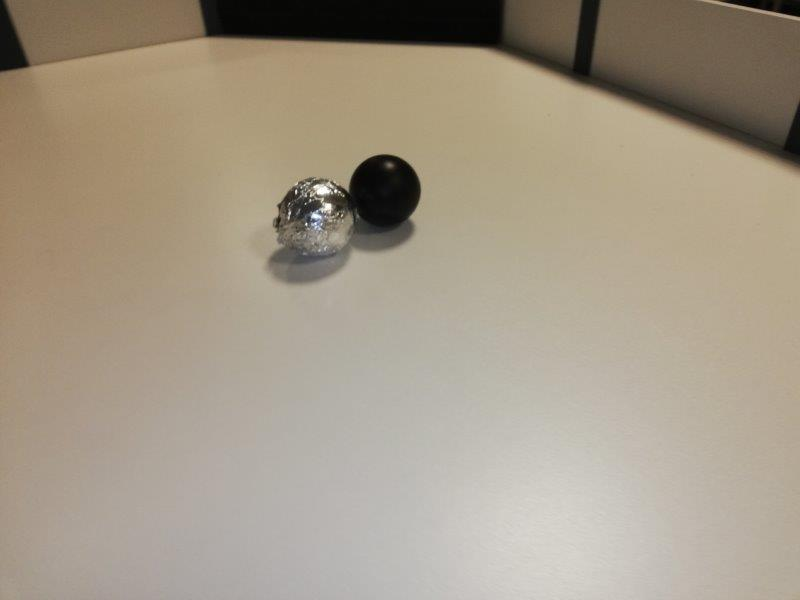bianca: (275, 174, 356, 258)
nera: (351, 156, 419, 227)
